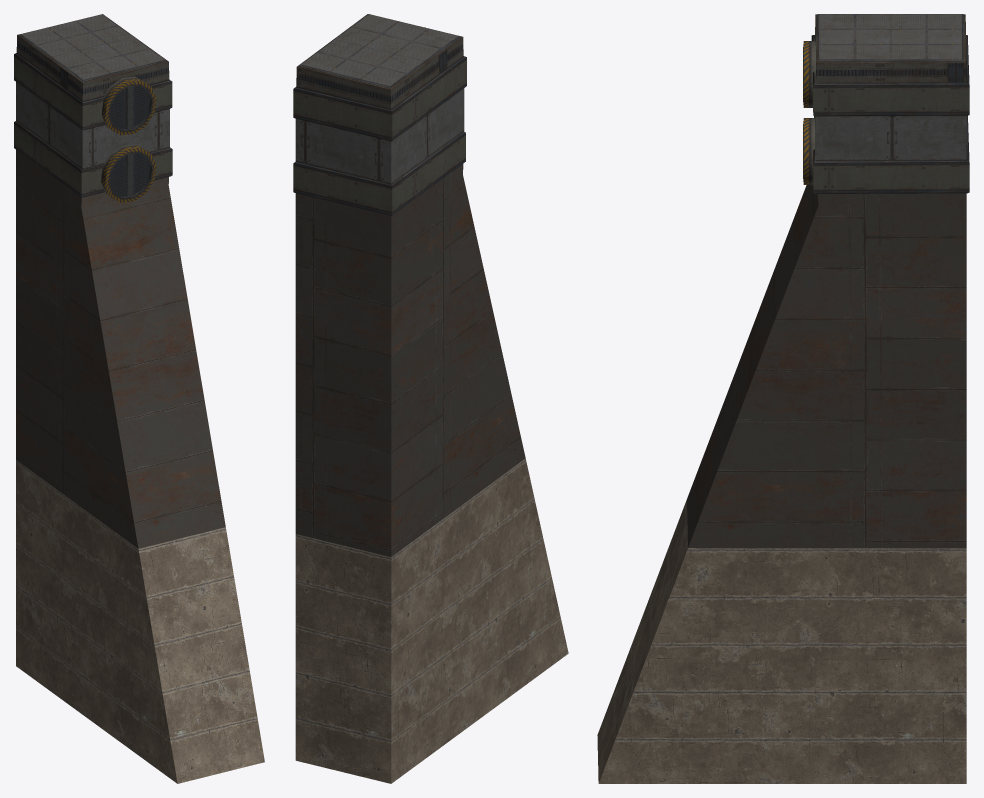
The model's file is Wall1_el1_L1.fbx.
3 views of the same model, side by side, from view 1: azimuth 30°, elevation 25°; view 2: azimuth 150°, elevation 25°; view 3: azimuth 270°, elevation 25° (orthographic). The views are drawn at different scales.
Visible parts, largest first — view 1: polySurface163; view 2: polySurface163; view 3: polySurface163.
Part boxes in pixels (box(x1,y1,x2,y2)): polySurface163: box(14, 14, 264, 783); polySurface163: box(293, 14, 568, 783); polySurface163: box(597, 14, 969, 783).
Size of the model in its own units: 519 by 3446 by 1607.
